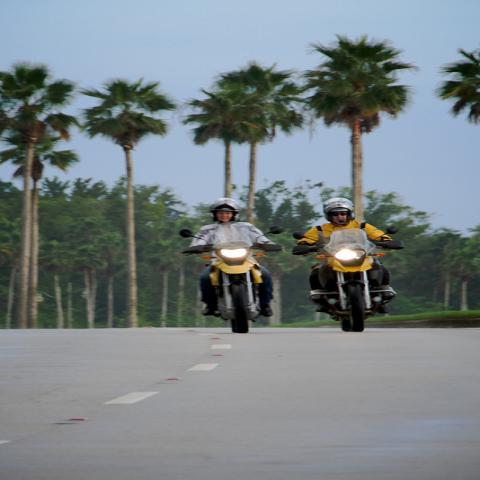motorcycle: (294, 225, 404, 338), (170, 226, 284, 331)
